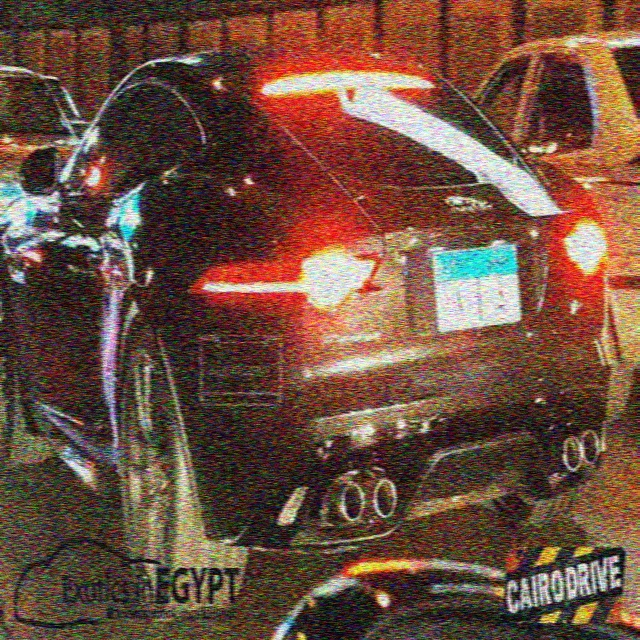License Plate: (428, 240, 526, 339)
